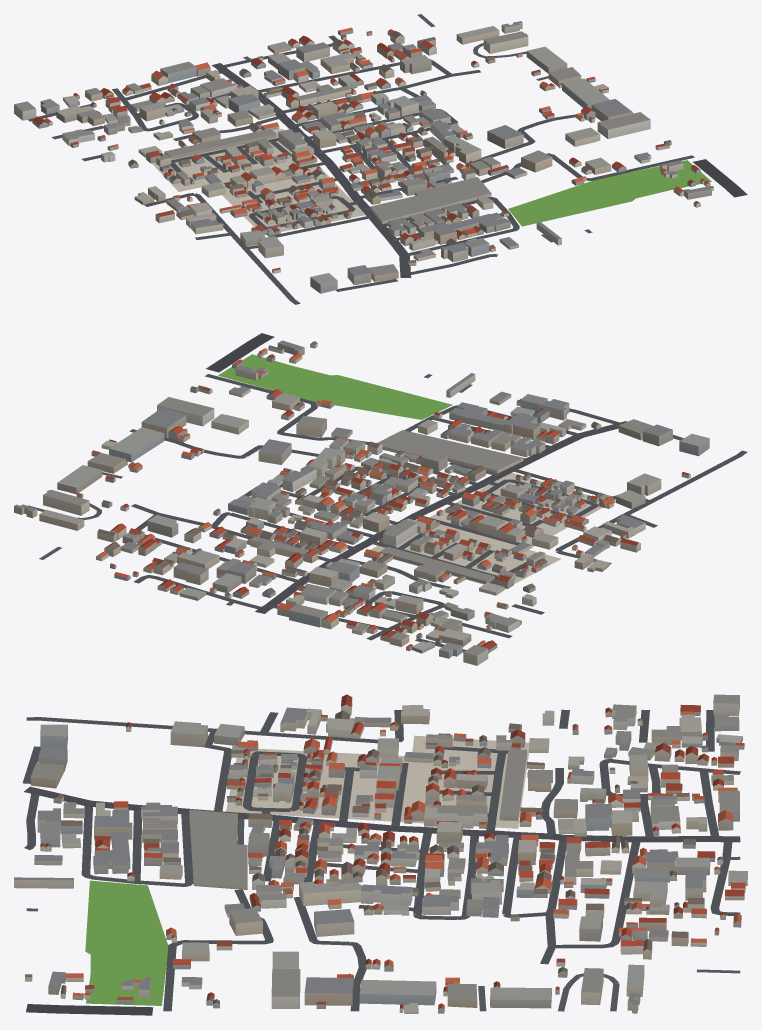
3 views of the same model, one above another, from view 1: azimuth 30°, elevation 25°; view 2: azimuth 150°, elevation 25°; view 3: azimuth 270°, elevation 25° (orthographic). The views are drawn at different scales.
Parts seen in each view (by area): view 1: buildings_roofs, buildings_walls, roads, landuse; view 2: buildings_roofs, buildings_walls, roads, landuse; view 3: buildings_roofs, buildings_walls, roads, landuse.
Boxes of the visible parts, x1,y1,x2,y2 form: buildings_roofs: [14, 21, 713, 284]; buildings_walls: [14, 22, 713, 293]; roads: [28, 14, 747, 304]; landuse: [152, 129, 711, 231]; buildings_roofs: [14, 340, 709, 655]; buildings_walls: [14, 343, 709, 665]; roads: [28, 333, 747, 652]; landuse: [218, 354, 602, 588]; buildings_roofs: [14, 694, 747, 1009]; buildings_walls: [14, 696, 747, 1013]; roads: [22, 709, 740, 1015]; landuse: [85, 735, 529, 1005].
Bounding box in the file's own units: 515 × 9.61 × 514.
